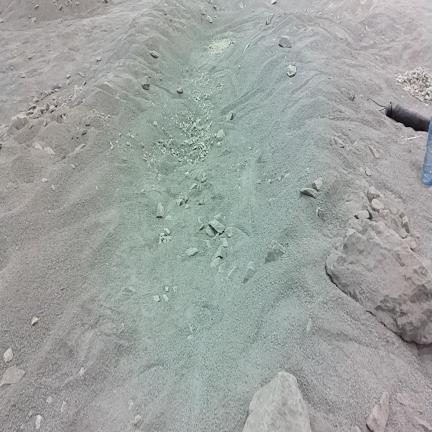Rock: (326, 219, 431, 343), (243, 372, 311, 431), (367, 392, 389, 431), (0, 367, 24, 387), (265, 240, 285, 262), (312, 414, 334, 431), (11, 114, 28, 129), (244, 262, 255, 283), (415, 417, 431, 431), (212, 245, 226, 261), (209, 219, 224, 233), (70, 143, 86, 155), (367, 187, 380, 201), (300, 188, 318, 198), (371, 199, 384, 212), (193, 170, 206, 182), (312, 177, 323, 191), (205, 224, 216, 238), (342, 89, 354, 101), (210, 257, 222, 269), (369, 145, 380, 158), (331, 137, 345, 147), (279, 36, 291, 47), (356, 210, 370, 219), (4, 348, 13, 362), (50, 112, 61, 123), (32, 107, 42, 119), (402, 215, 409, 232), (216, 129, 225, 142), (407, 238, 416, 250), (287, 65, 296, 77), (134, 415, 142, 428), (142, 76, 150, 89), (227, 267, 237, 277), (28, 103, 37, 114), (316, 207, 325, 218), (157, 203, 164, 217), (266, 13, 274, 25), (306, 318, 312, 333), (74, 85, 82, 96), (36, 415, 42, 429), (400, 228, 408, 238), (44, 147, 54, 155), (187, 248, 197, 256), (78, 367, 86, 377), (367, 206, 373, 219), (189, 183, 198, 191), (34, 142, 43, 150), (225, 227, 232, 237), (163, 4, 169, 15), (226, 111, 233, 120), (52, 83, 61, 90), (150, 51, 159, 58), (42, 91, 49, 99), (48, 106, 56, 113), (61, 401, 66, 412), (365, 167, 371, 176), (222, 238, 228, 247), (65, 0, 72, 7), (214, 213, 221, 220), (27, 410, 33, 418), (177, 198, 183, 206), (32, 317, 38, 325), (201, 6, 206, 15), (244, 44, 249, 53), (351, 426, 360, 431), (399, 211, 405, 218), (154, 295, 160, 302), (164, 228, 170, 235), (207, 15, 212, 23), (20, 72, 26, 78), (199, 224, 205, 230), (198, 199, 204, 205), (33, 96, 39, 102), (47, 397, 52, 404), (239, 2, 244, 9), (163, 294, 168, 301), (165, 215, 172, 220), (41, 178, 48, 183), (184, 195, 188, 203), (177, 88, 183, 93), (79, 72, 85, 77), (66, 79, 70, 86), (166, 236, 171, 241), (159, 236, 164, 241), (165, 286, 169, 292), (32, 17, 36, 23), (173, 286, 177, 292), (66, 74, 70, 79), (103, 0, 108, 4), (0, 18, 4, 23), (271, 0, 276, 4), (97, 57, 101, 62), (51, 185, 55, 190), (162, 239, 167, 243), (158, 239, 162, 244), (198, 217, 201, 223), (28, 56, 32, 60), (28, 15, 32, 19), (154, 121, 157, 126), (140, 142, 143, 147), (59, 5, 62, 9), (160, 233, 164, 236), (186, 204, 189, 208), (131, 134, 134, 138), (127, 142, 130, 146), (127, 133, 130, 137), (101, 112, 104, 116), (83, 81, 86, 85), (35, 5, 38, 9), (53, 96, 56, 100), (111, 144, 113, 149), (116, 140, 118, 144), (119, 133, 121, 136), (36, 97, 36, 98)
